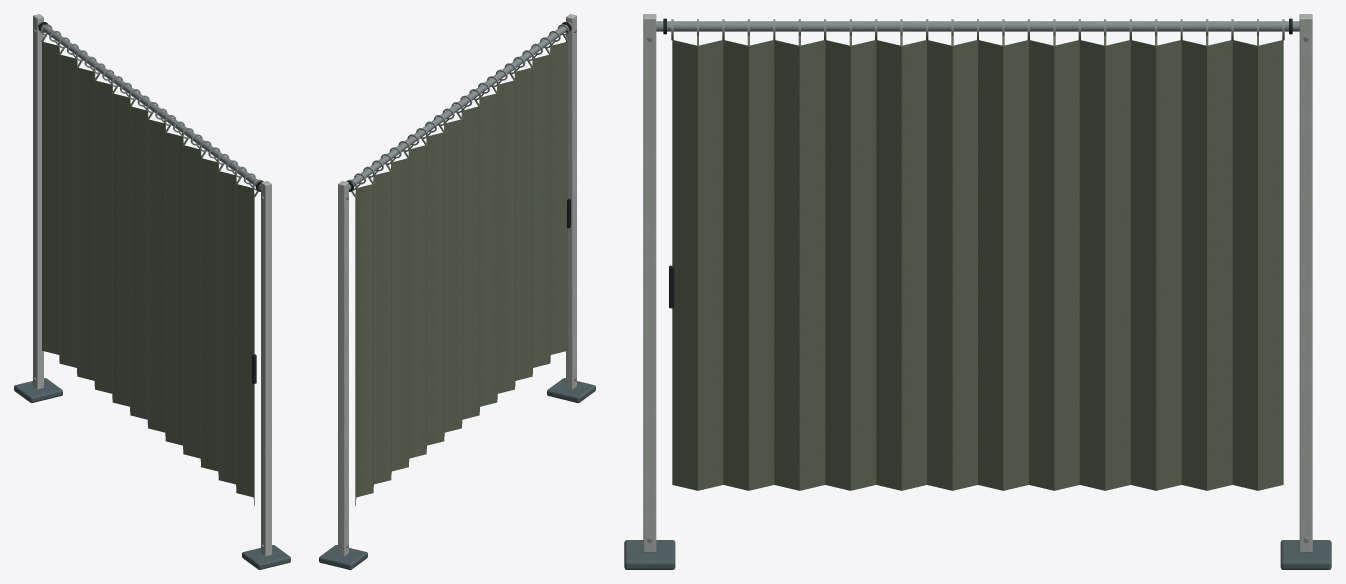
The model's file is AST-CRW-002.glb.
3 views of the same model, side by side, from view 1: azimuth 30°, elevation 25°; view 2: azimuth 150°, elevation 25°; view 3: azimuth 270°, elevation 25° (orthographic). The views are drawn at different scales.
Visible parts, largest first — view 1: AST-CRW-002__MOVING_crew_sage_privacy, AST-CRW-002__STATIC_staff_white_paint, AST-CRW-002__STATIC_staff_zinc, AST-CRW-002__STATIC_staff_bluegrey_paint, AST-CRW-002__MOVING_staff_zinc; view 2: AST-CRW-002__MOVING_crew_sage_privacy, AST-CRW-002__STATIC_staff_white_paint, AST-CRW-002__STATIC_staff_zinc, AST-CRW-002__STATIC_staff_bluegrey_paint, AST-CRW-002__MOVING_staff_zinc; view 3: AST-CRW-002__MOVING_crew_sage_privacy, AST-CRW-002__STATIC_staff_white_paint, AST-CRW-002__STATIC_staff_zinc, AST-CRW-002__STATIC_staff_bluegrey_paint, AST-CRW-002__MOVING_staff_zinc.
Boxes of the visible parts, left/top/right/bottom form: AST-CRW-002__MOVING_crew_sage_privacy: left=41, top=35, right=258, bottom=505; AST-CRW-002__STATIC_staff_white_paint: left=33, top=14, right=271, bottom=556; AST-CRW-002__STATIC_staff_zinc: left=33, top=22, right=263, bottom=547; AST-CRW-002__STATIC_staff_bluegrey_paint: left=14, top=378, right=290, bottom=569; AST-CRW-002__MOVING_staff_zinc: left=40, top=24, right=262, bottom=190; AST-CRW-002__MOVING_crew_sage_privacy: left=351, top=35, right=568, bottom=505; AST-CRW-002__STATIC_staff_white_paint: left=338, top=14, right=576, bottom=556; AST-CRW-002__STATIC_staff_zinc: left=346, top=22, right=576, bottom=547; AST-CRW-002__STATIC_staff_bluegrey_paint: left=319, top=378, right=595, bottom=569; AST-CRW-002__MOVING_staff_zinc: left=347, top=24, right=569, bottom=190; AST-CRW-002__MOVING_crew_sage_privacy: left=671, top=36, right=1284, bottom=490; AST-CRW-002__STATIC_staff_white_paint: left=643, top=14, right=1312, bottom=552; AST-CRW-002__STATIC_staff_zinc: left=647, top=21, right=1308, bottom=543; AST-CRW-002__STATIC_staff_bluegrey_paint: left=624, top=540, right=1331, bottom=569; AST-CRW-002__MOVING_staff_zinc: left=671, top=19, right=1284, bottom=35.
Size of the model in its own units: 0.192 by 2.12 by 2.5.
Materials: 5 (5 with a texture image).
